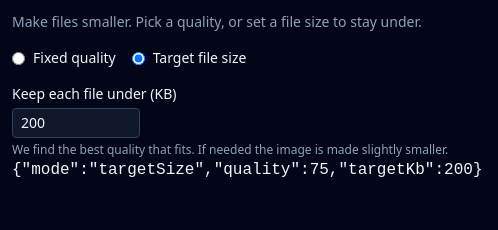
Scenario: Compress panel › shows an error for an invalid target and clears it when fixed
The width and height of the screenshot is (498, 230).
Replace the text in the number field labelled "Keep each file under (KB)" with "0": (76, 123) 12,108 -> 140,138
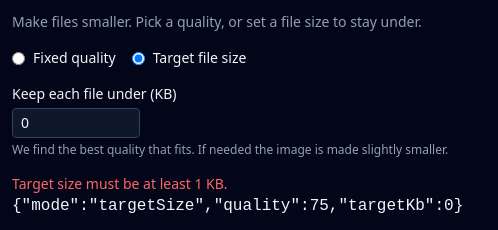
Check: the message shows "at least 1 KB", box 12,174 -> 227,193
Replace the text in the number field labelled "Keep each file under (KB)" with "10": (76, 123) 12,108 -> 140,138
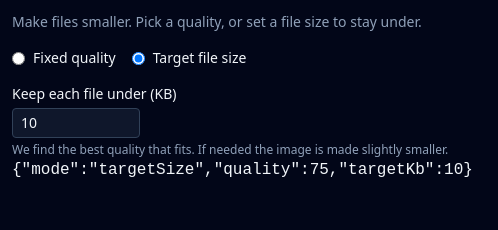
Check: the message "Target size must be at least 1 KB." is gone
